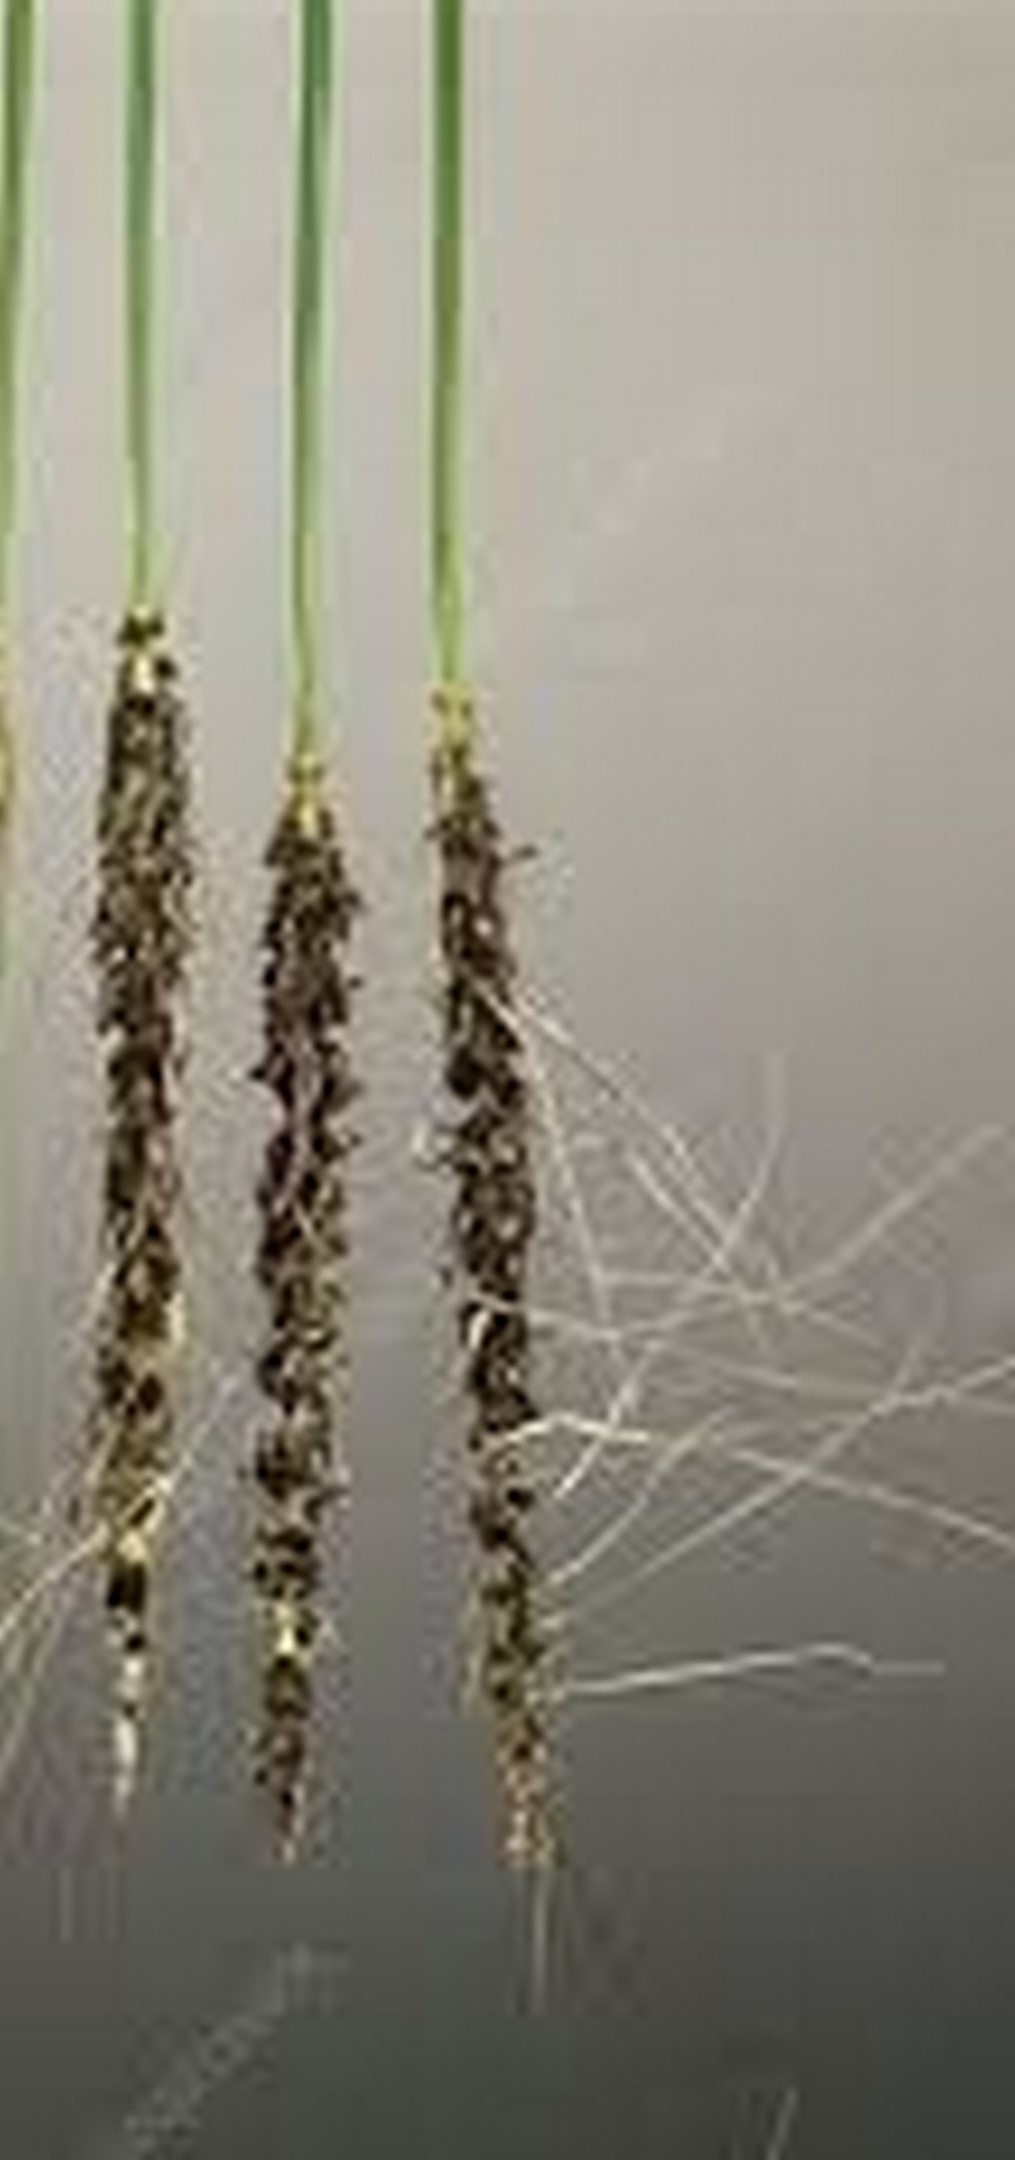Wheat Loose Smut: (45, 612, 616, 1873)
